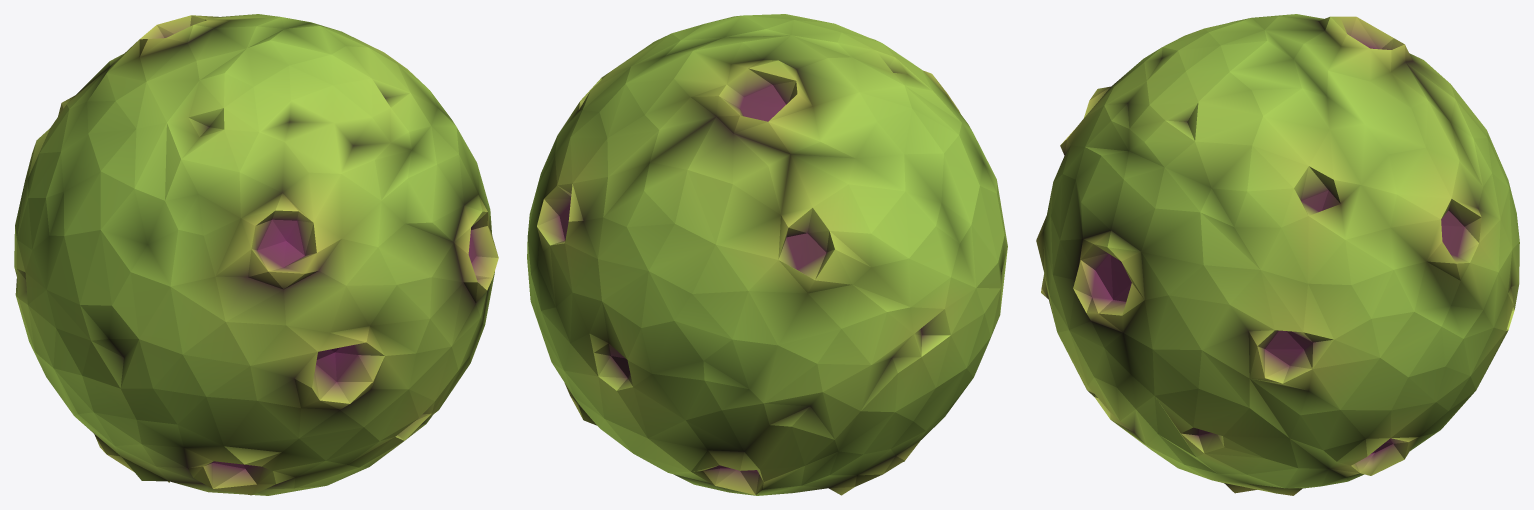
Rendered from moon18.fbx.
3 views of the same model, side by side, from view 1: azimuth 30°, elevation 25°; view 2: azimuth 150°, elevation 25°; view 3: azimuth 270°, elevation 25° (orthographic).
Visible parts, largest first — view 1: attribblur1; view 2: attribblur1; view 3: attribblur1.
Part boxes in pixels (x1,y1,x2,y2): attribblur1: (14,14,498,495); attribblur1: (527,14,1007,495); attribblur1: (1036,14,1519,495).
Size of the model in its own units: 0.7971 by 0.8085 by 0.8012.
